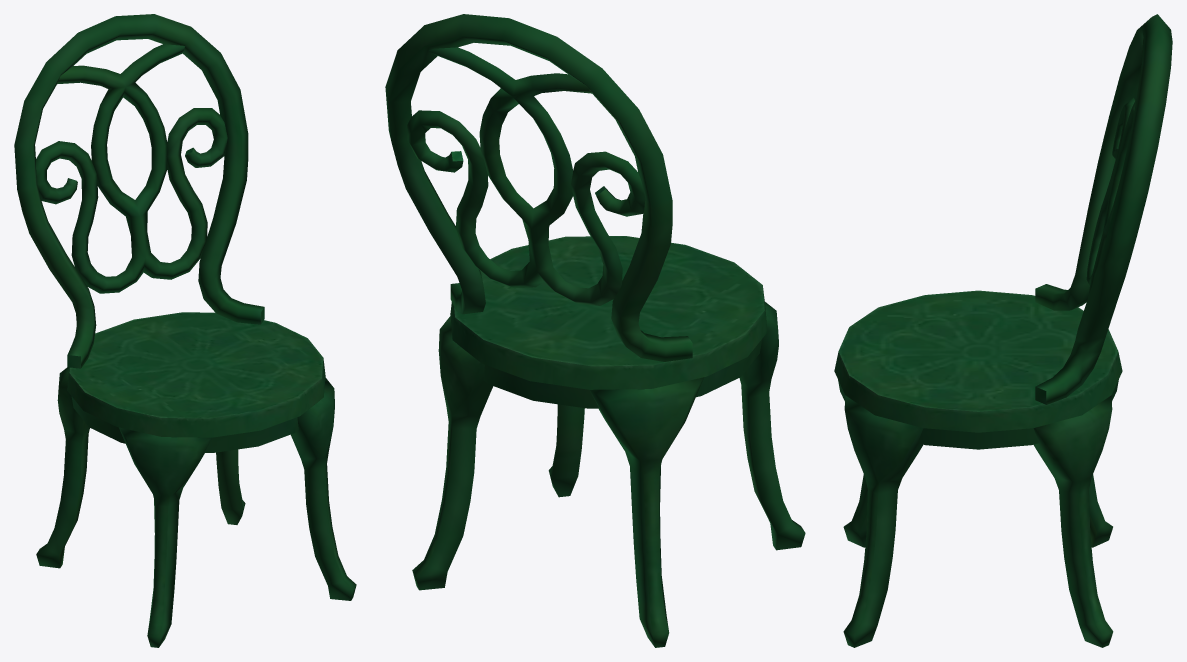
Rendered from iron-chair.glb.
The picture shows the model from 3 angles, left to right: view 1: azimuth 30°, elevation 25°; view 2: azimuth 150°, elevation 25°; view 3: azimuth 270°, elevation 25°; orthographic projection. The views are drawn at different scales.
Size of the model in its own units: 5.42 by 11.34 by 6.15.
Materials: 1 (1 with a texture image).
